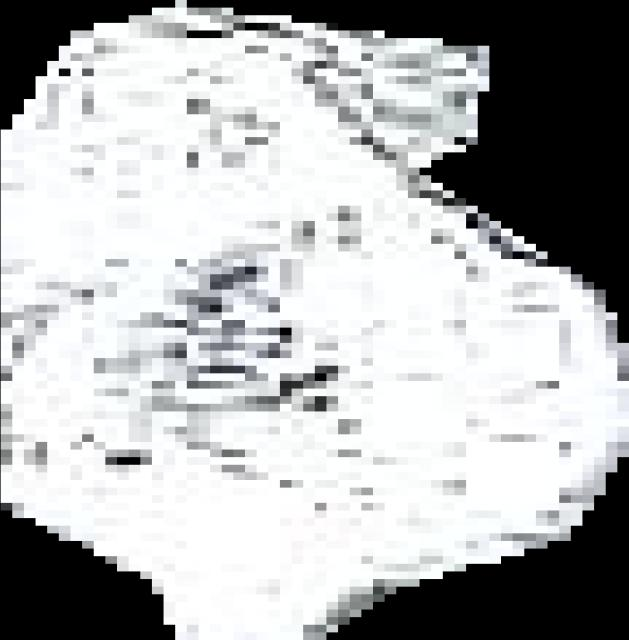tumor_moderate_chance: (1, 0, 629, 640)
